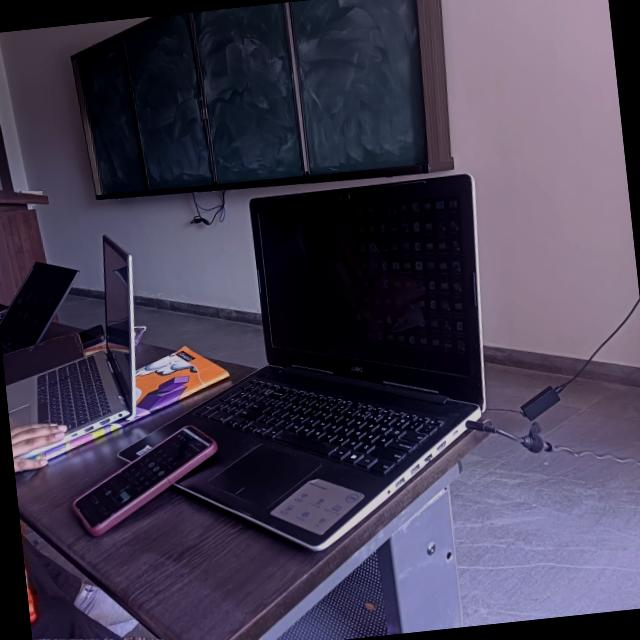laptop: (192, 167, 544, 572), (0, 223, 178, 465), (0, 191, 84, 357)
